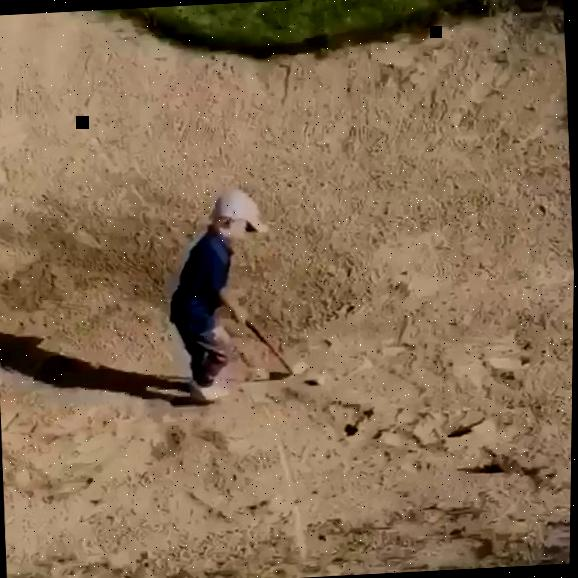ClubHead: (292, 362, 310, 374)
GolfBall: (319, 376, 327, 385)
